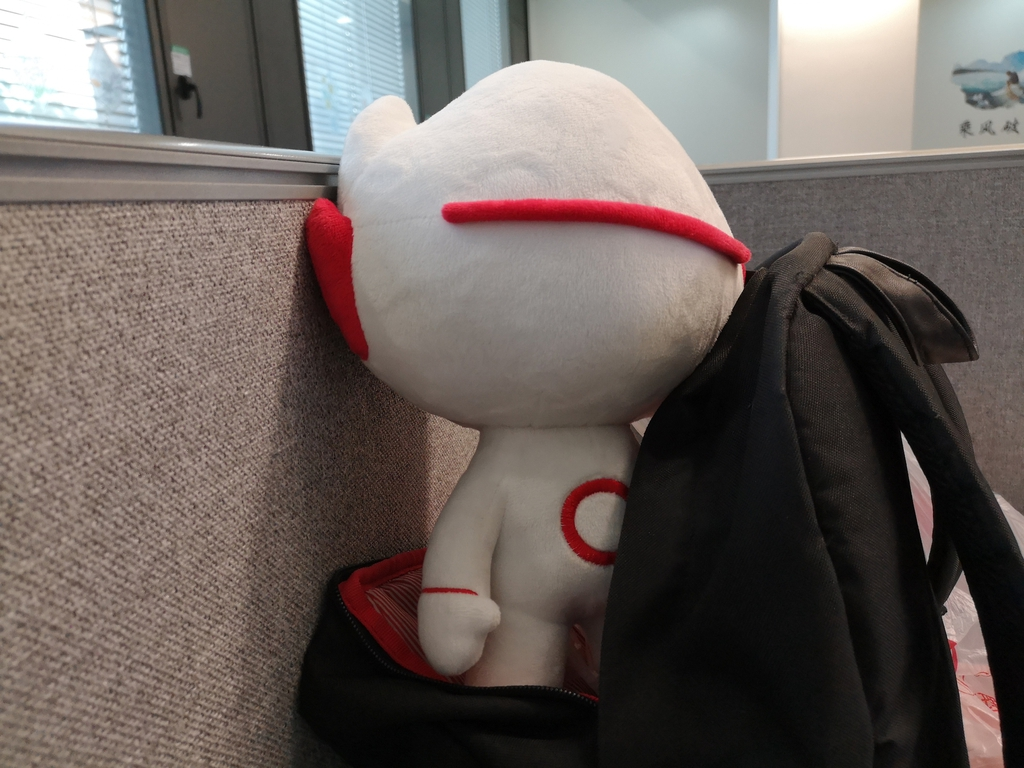yunbao: (313, 50, 745, 740)
